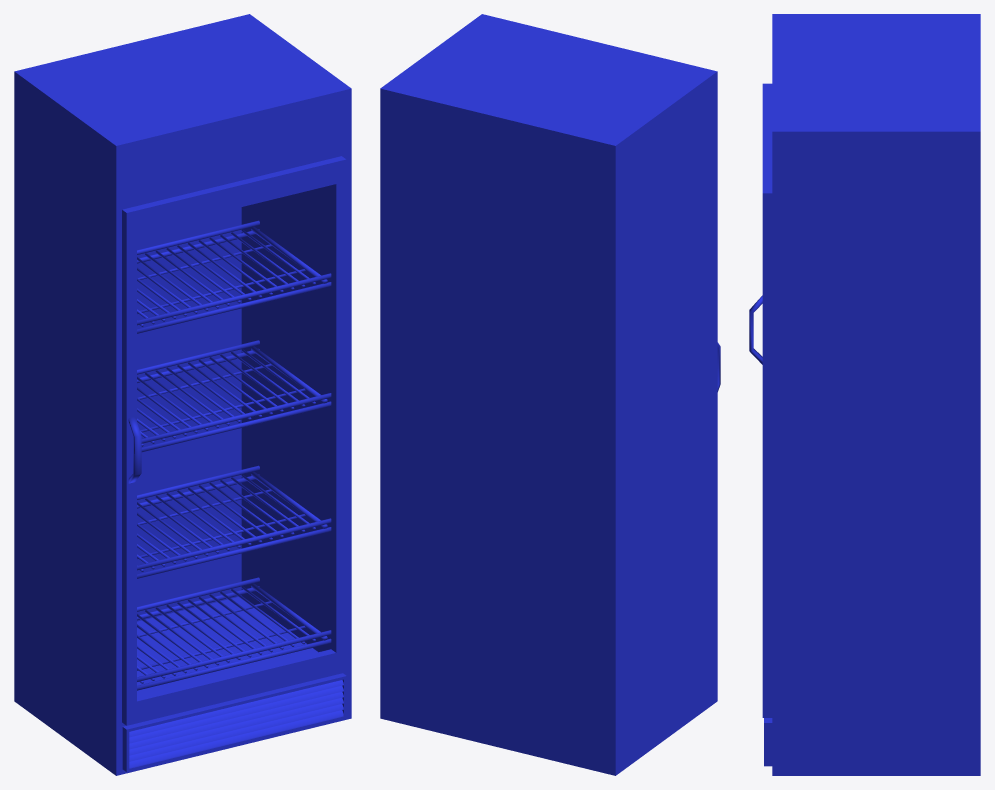
Rendered from HeladeraUnity.fbx.
3 views of the same model, side by side, from view 1: azimuth 30°, elevation 25°; view 2: azimuth 150°, elevation 25°; view 3: azimuth 270°, elevation 25° (orthographic). The views are drawn at different scales.
Parts seen in each view (by area): view 1: Cube.009; view 2: Cube.009; view 3: Cube.009.
Part boxes in pixels (x1,y1,x2,y2): Cube.009: (14,14,351,775); Cube.009: (380,14,720,775); Cube.009: (749,14,980,775).
Size of the model in its own units: 84.21 by 215 by 70.
